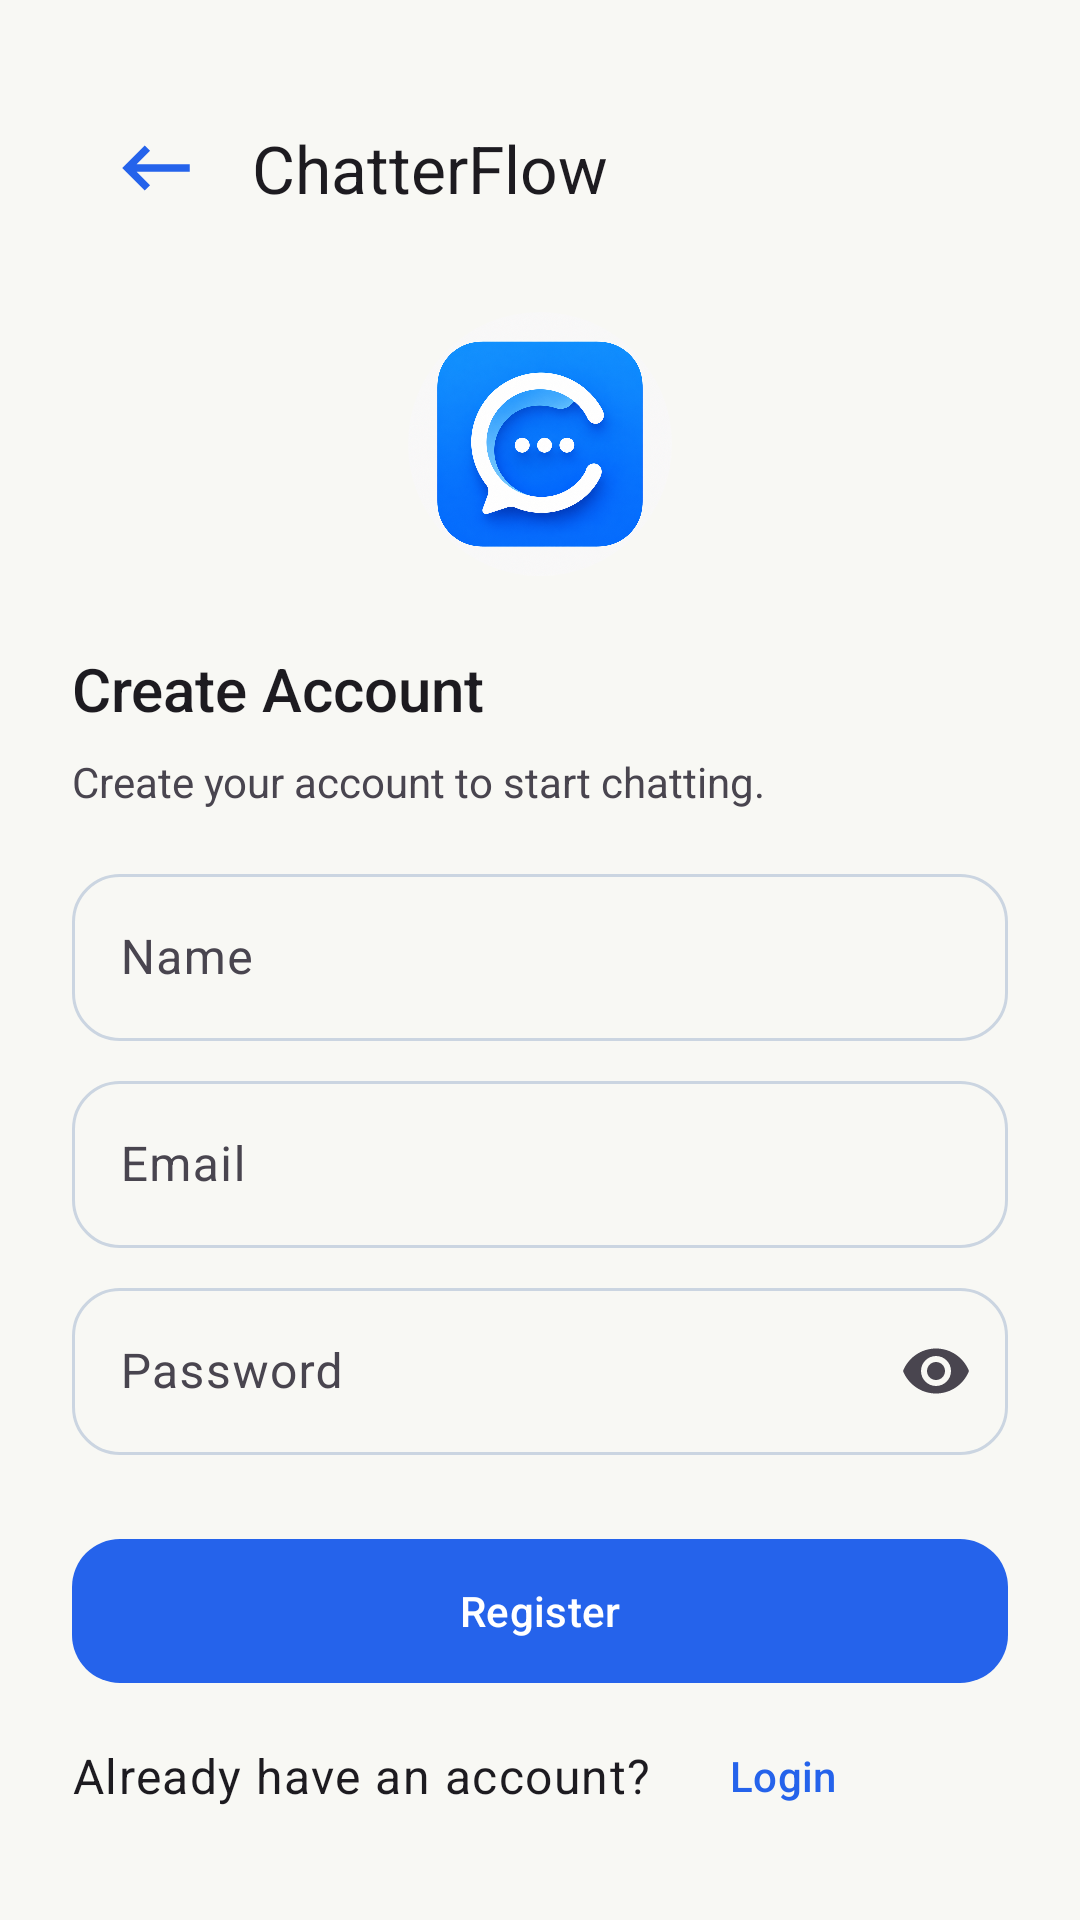

Point at icon controls on the screen. Image size 1080x1920, points as point (x, y).
chatting: point (540, 444)
